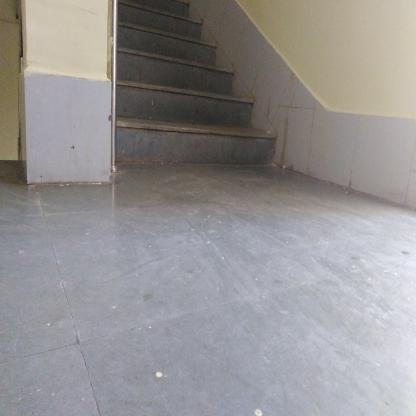stairs: (121, 18, 205, 169)
